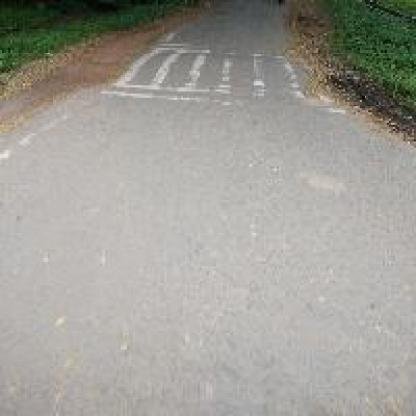Speed Bump: (96, 31, 347, 112)
